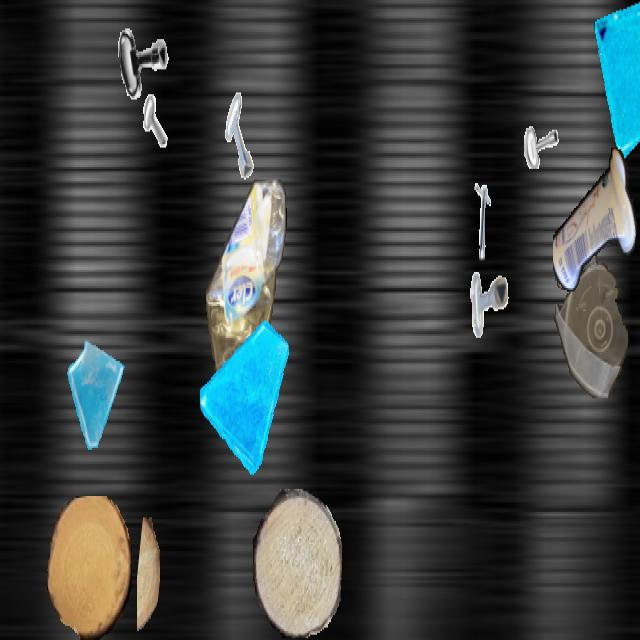glass: (200, 314, 290, 474), (593, 2, 640, 165), (64, 338, 128, 452)
metal: (111, 2, 173, 112), (461, 180, 515, 276), (512, 76, 564, 169), (217, 90, 267, 180), (119, 91, 167, 176), (468, 263, 510, 338), (625, 188, 640, 278)
plastic: (206, 180, 288, 439), (553, 144, 637, 297), (554, 240, 628, 396)
wood: (253, 489, 341, 638), (47, 496, 131, 638), (137, 518, 159, 638)
